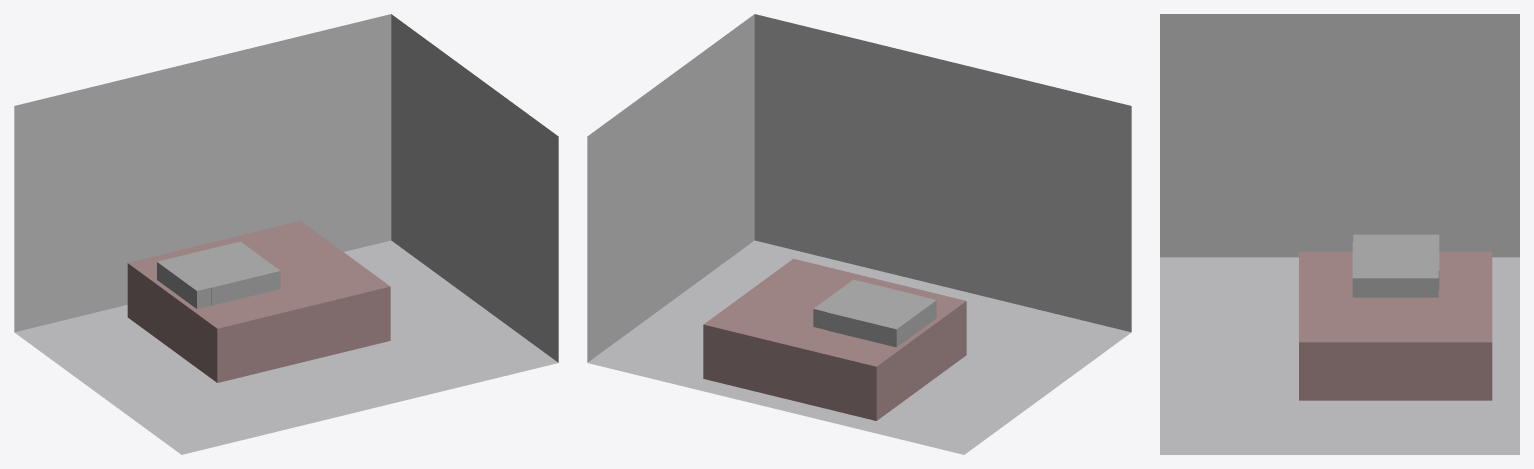
File: optimised_layout.glb
3 renders of one model, left to right at view 1: azimuth 30°, elevation 25°; view 2: azimuth 150°, elevation 25°; view 3: azimuth 270°, elevation 25°, orthographic. The views are drawn at different scales.
Visible parts, largest first — view 1: room, bed, sofas, dustbin; view 2: room, bed, sofas, dustbin; view 3: room, bed, sofas, dustbin.
Part boxes in pixels (x1,y1,x2,y2): room: (14, 14, 558, 454); bed: (127, 220, 390, 382); sofas: (157, 245, 265, 308); dustbin: (175, 241, 280, 305); room: (587, 14, 1131, 454); bed: (703, 258, 966, 420); sofas: (827, 285, 936, 347); dustbin: (813, 279, 922, 329); room: (1160, 14, 1519, 454); bed: (1299, 251, 1492, 400); sofas: (1353, 234, 1439, 289); dustbin: (1352, 242, 1438, 297).
Size of the model in its own units: 4.36 by 2.5 by 3.35.
